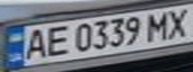0: (72, 20, 93, 53)
3: (90, 17, 112, 51), (109, 16, 127, 48)
9: (121, 13, 148, 46)
A: (18, 26, 51, 61)
E: (42, 24, 72, 57)
M: (142, 10, 172, 42)
X: (160, 6, 193, 39)
